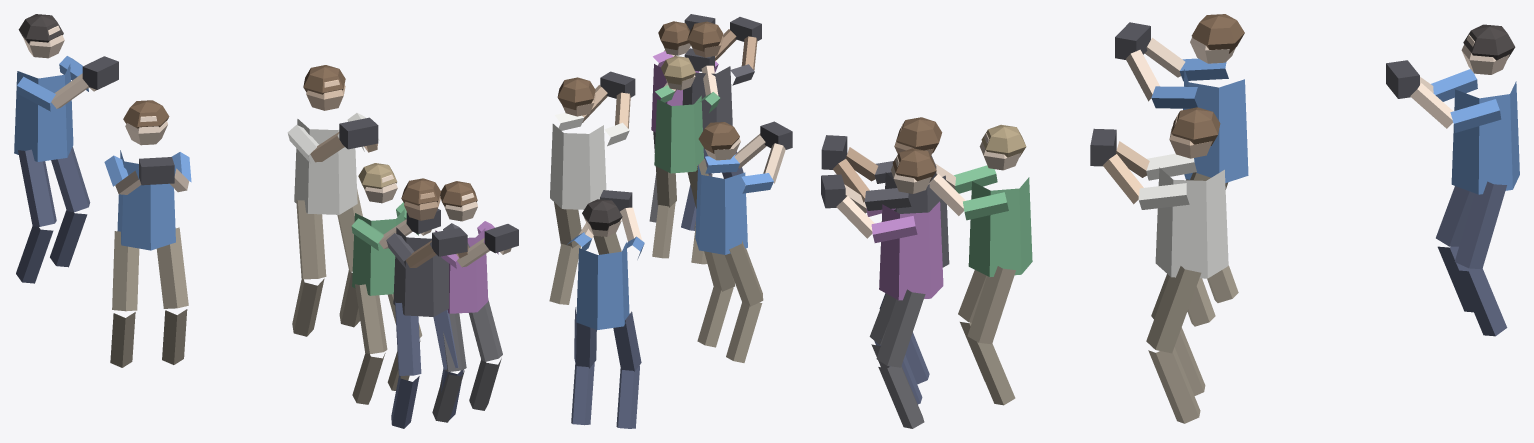
The model's file is crowd_group_photographers.glb.
3 views of the same model, side by side, from view 1: azimuth 30°, elevation 25°; view 2: azimuth 150°, elevation 25°; view 3: azimuth 270°, elevation 25° (orthographic). The views are drawn at different scales.
Parts seen in each view (by area): view 1: crowd_group_photographers; view 2: crowd_group_photographers; view 3: crowd_group_photographers.
Boxes of the visible parts, box(x1,y1,x2,y2) form: crowd_group_photographers: box(14, 14, 518, 428); crowd_group_photographers: box(549, 14, 792, 428); crowd_group_photographers: box(821, 14, 1519, 428).
Size of the model in its own units: 1.92 by 1.82 by 3.84.
